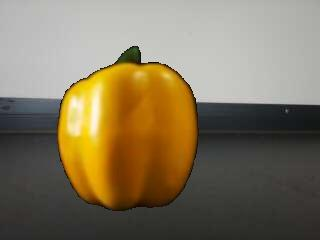Capsicum: (56, 44, 201, 212)
